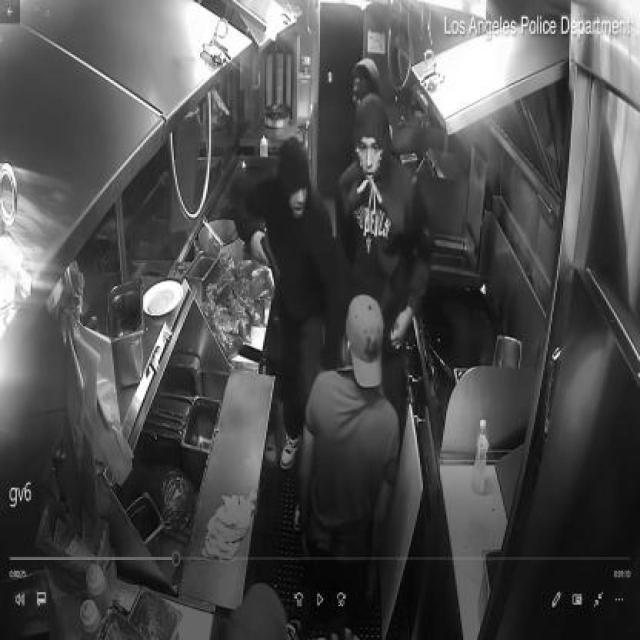weapon: (260, 237, 280, 280)
